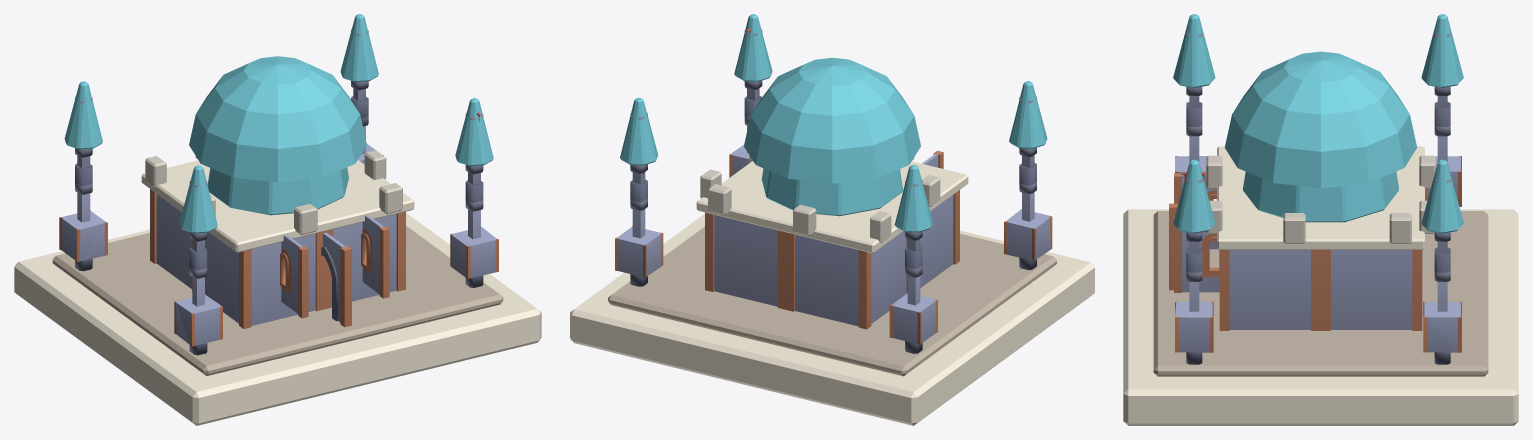
File: middle_eastern-keep.glb
The picture shows the model from 3 angles, left to right: view 1: azimuth 30°, elevation 25°; view 2: azimuth 150°, elevation 25°; view 3: azimuth 270°, elevation 25°; orthographic projection. The views are drawn at different scales.
Visible parts, largest first — view 1: keep; view 2: keep; view 3: keep.
Part boxes in pixels (x1,y1,x2,y2): keep: (14, 14, 541, 425); keep: (570, 14, 1094, 425); keep: (1123, 14, 1518, 425).
Bounding box in the file's own units: 3.66 × 2.55 × 3.32.
25 materials, 20 textured.
